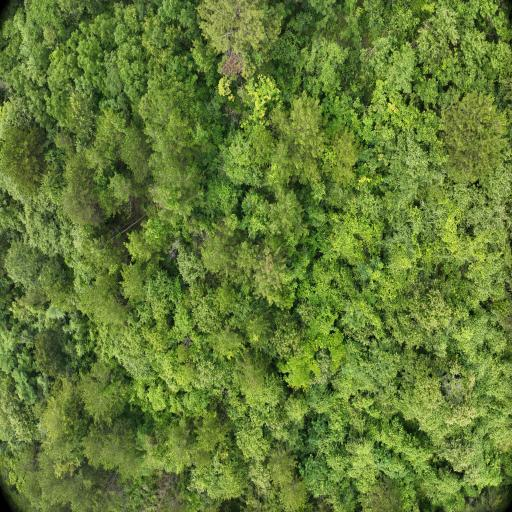dead-tree: (160, 474, 176, 508), (226, 52, 243, 75), (109, 475, 119, 495)
